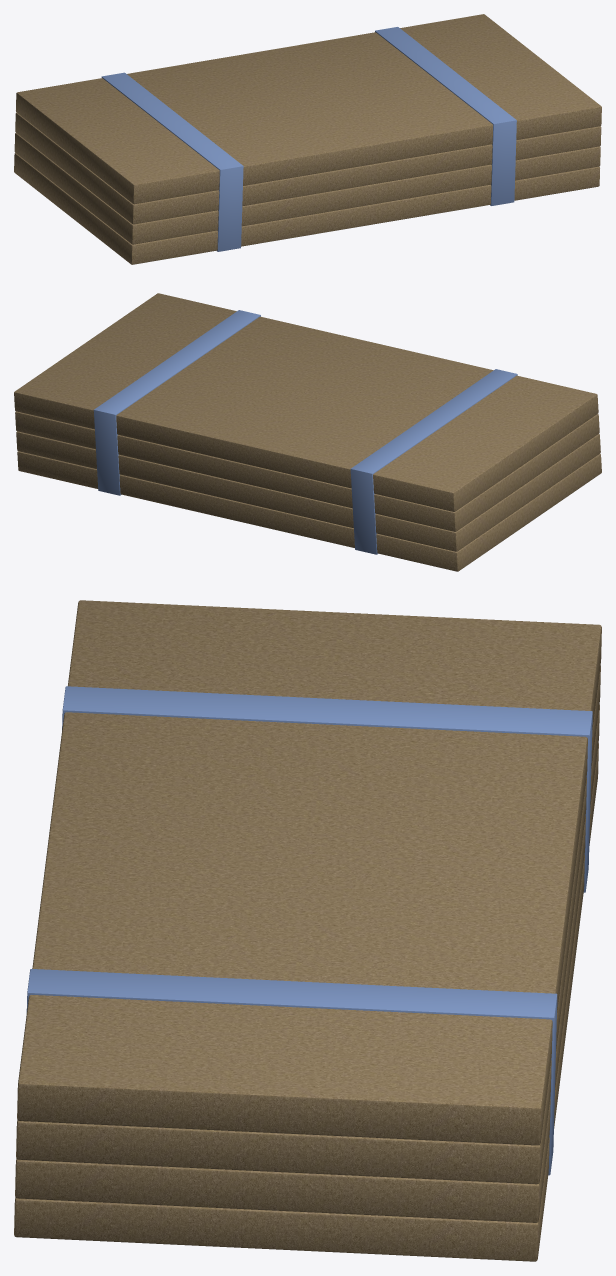
File: IMP-ISO-002_anim.glb
3 renders of one model, top to bottom at view 1: azimuth 30°, elevation 25°; view 2: azimuth 150°, elevation 25°; view 3: azimuth 270°, elevation 25°, orthographic. The views are drawn at different scales.
Visible parts, largest first — view 1: IMP-ISO-002_anim0; view 2: IMP-ISO-002_anim0; view 3: IMP-ISO-002_anim0.
Part boxes in pixels (left/top/right/bottom): IMP-ISO-002_anim0: left=14, top=14, right=601, bottom=264; IMP-ISO-002_anim0: left=14, top=293, right=601, bottom=571; IMP-ISO-002_anim0: left=14, top=600, right=601, bottom=1261.
Bounding box in the file's own units: 1.24 × 0.2672 × 0.6722.
2 materials, 1 textured.
